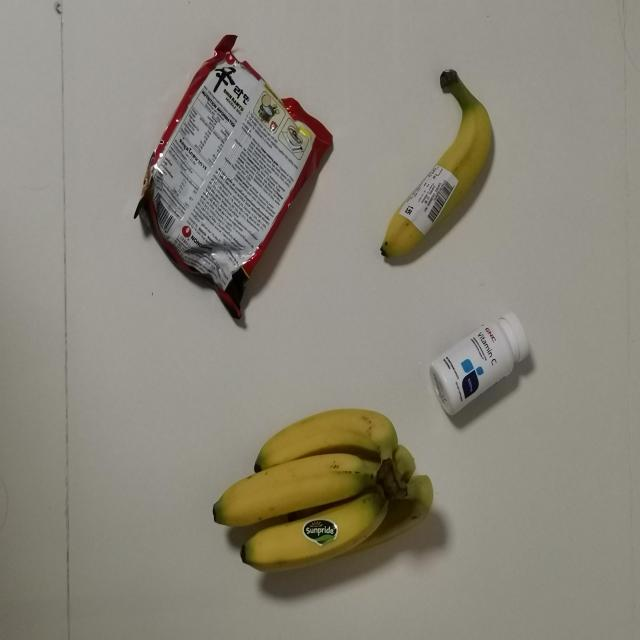Banana: (198, 408, 441, 572), (378, 71, 495, 267)
